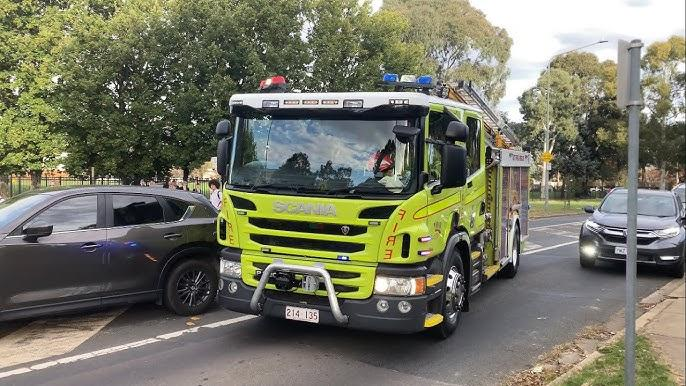firetruck_off: (216, 71, 534, 339)
